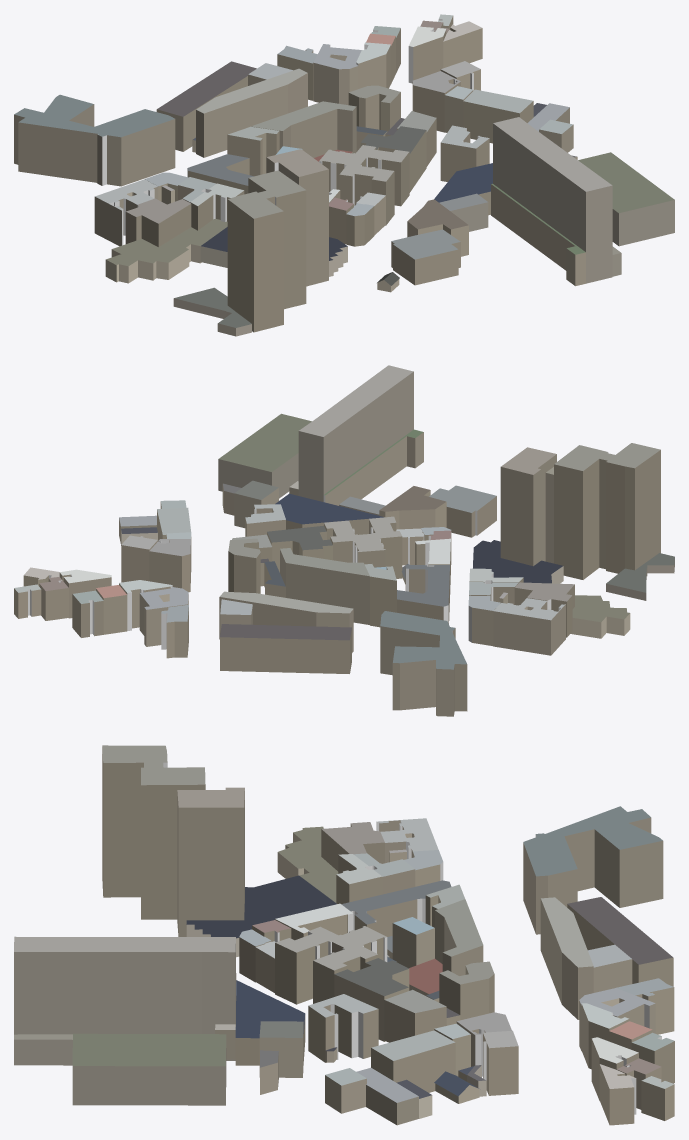
The picture shows the model from 3 angles, top to bottom: view 1: azimuth 30°, elevation 25°; view 2: azimuth 150°, elevation 25°; view 3: azimuth 270°, elevation 25°; orthographic projection. The views are drawn at different scales.
Visible parts, largest first — view 1: tuile; view 2: tuile; view 3: tuile.
Boxes of the visible parts, bbox=[...] form: tuile: bbox=[14, 14, 674, 336]; tuile: bbox=[14, 365, 674, 716]; tuile: bbox=[14, 745, 674, 1125].
Size of the model in its own units: 271 by 59.72 by 263.
